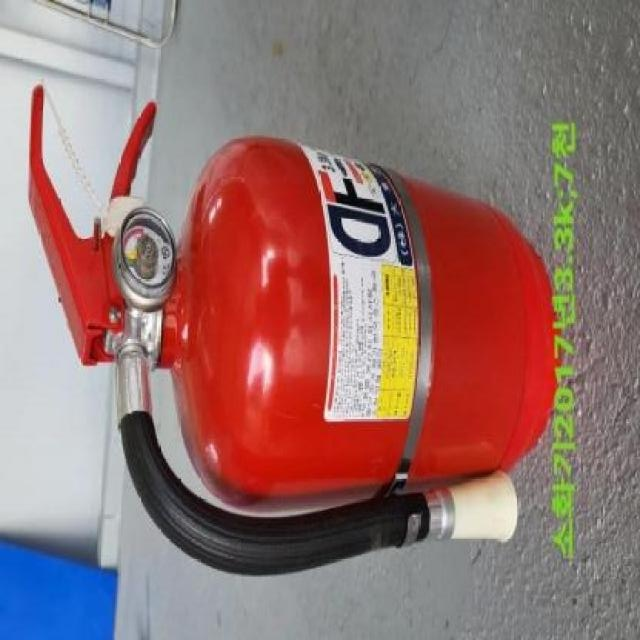fire extinguisher: (28, 83, 559, 579)
